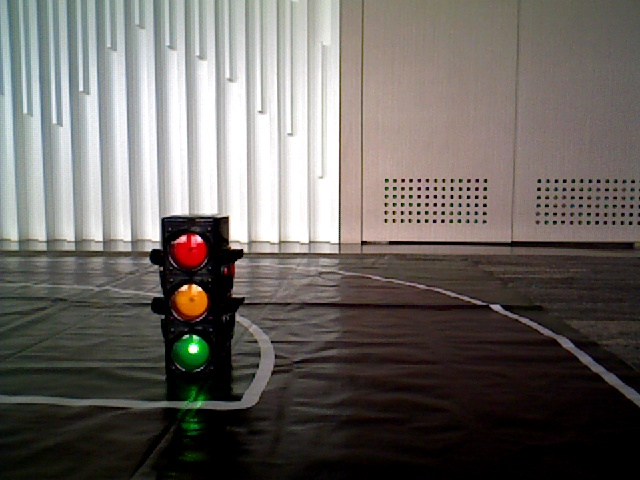green: (167, 220, 218, 372)
